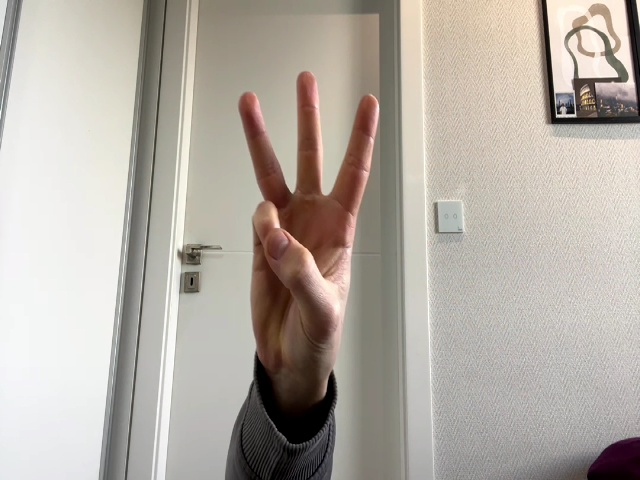W: (239, 72, 379, 364)
